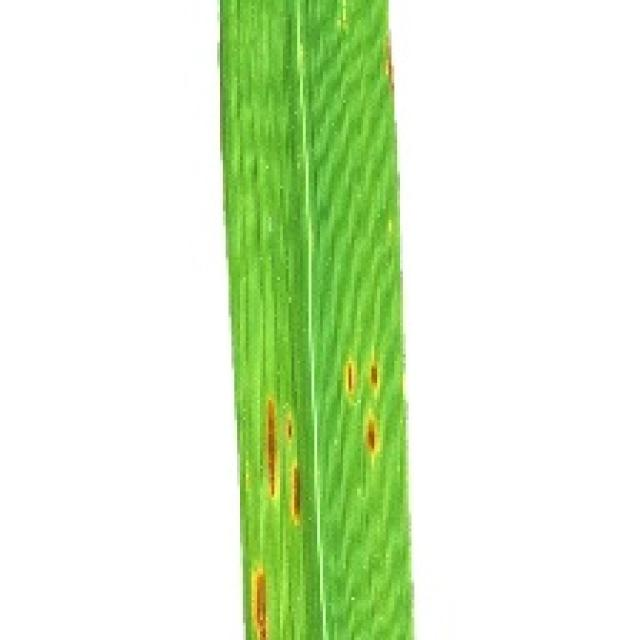Unhealthy: (251, 567, 263, 640), (266, 400, 274, 495), (292, 472, 299, 525), (283, 415, 295, 443), (347, 367, 355, 392), (368, 426, 376, 450), (371, 370, 380, 385)
